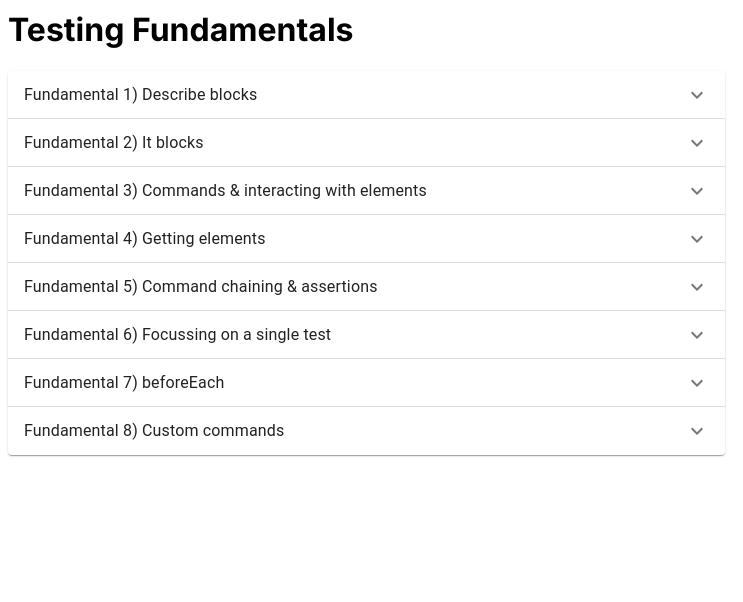
Test: Fundamentals tests › Accordion works correctly
Expected: the text "Your tests will exist in a describe block" is not shown
Click the button "Fundamental 1) Describe blocks": (141, 94) [24, 83, 709, 107]
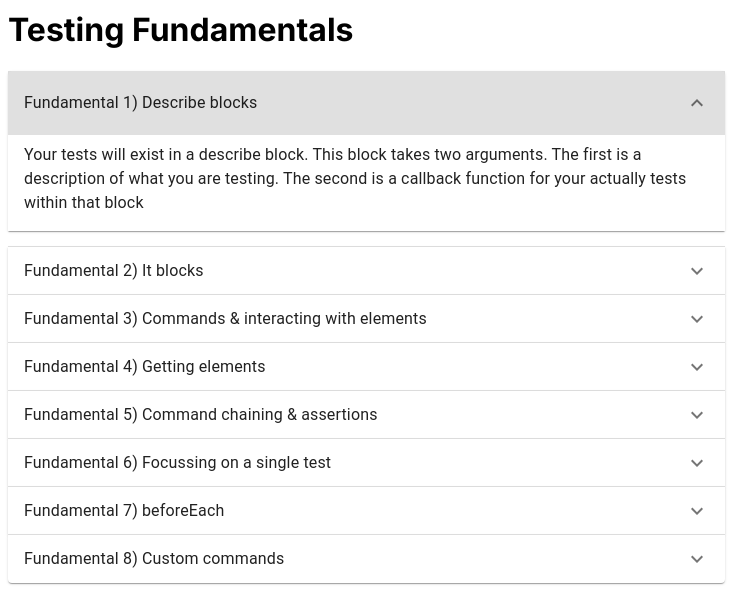
Now the text "Your tests will exist in a describe block" is shown, box [24, 143, 709, 215]
Click the button "Fundamental 1) Describe blocks": (141, 102) [8, 71, 725, 135]
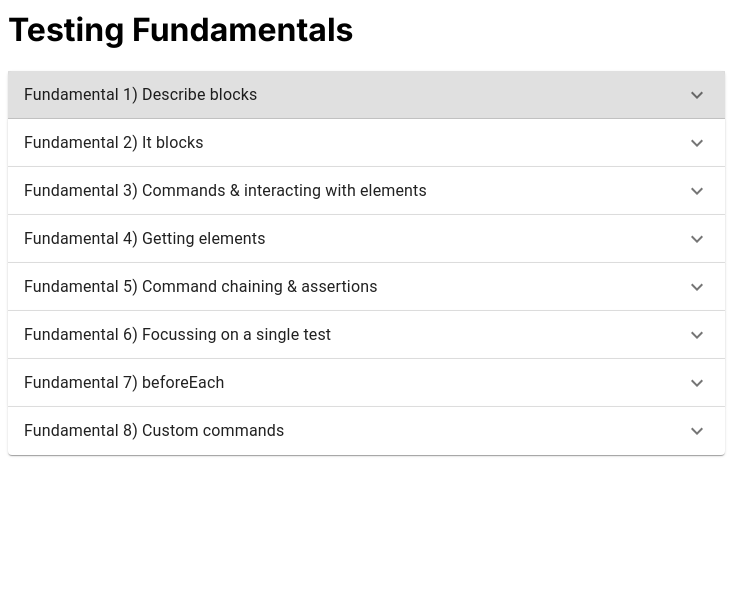
Now the text "Your tests will exist in a describe block" is gone
